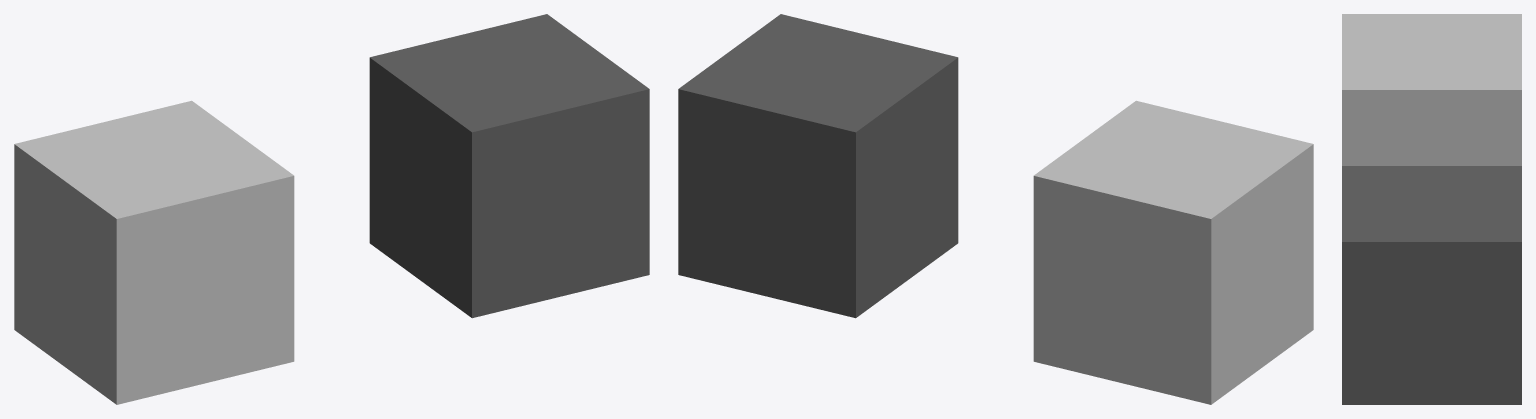
File: calib_v1.glb
The picture shows the model from 3 angles, left to right: view 1: azimuth 30°, elevation 25°; view 2: azimuth 150°, elevation 25°; view 3: azimuth 270°, elevation 25°; orthographic projection. The views are drawn at different scales.
Visible parts, largest first — view 1: cube100, cube200; view 2: cube100, cube200; view 3: cube100, cube200.
Part boxes in pixels (x1,y1,x2,y2): cube100: [369, 14, 649, 318]; cube200: [14, 100, 294, 404]; cube100: [678, 14, 958, 318]; cube200: [1033, 100, 1313, 404]; cube100: [1342, 166, 1521, 404]; cube200: [1342, 14, 1521, 165].
Bounding box in the file's own units: 6 × 2 × 2.
2 materials, 2 textured.
